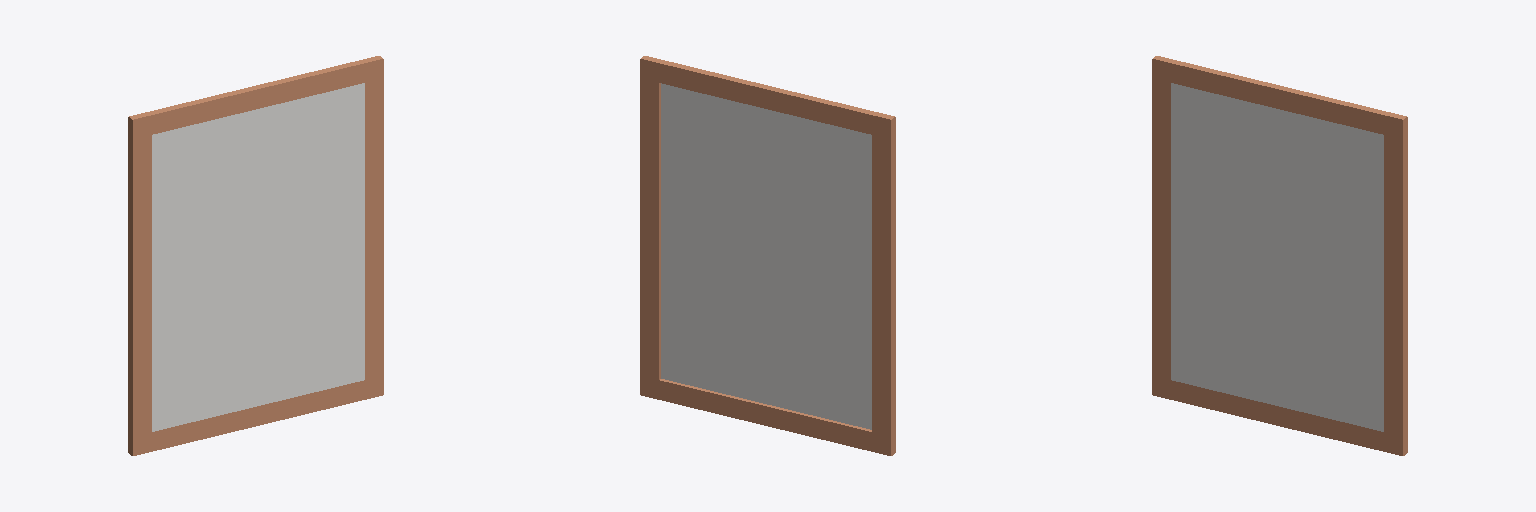
File: Painting_04.obj
The picture shows the model from 3 angles: view 1: azimuth 30°, elevation 25°; view 2: azimuth 150°, elevation 25°; view 3: azimuth 330°, elevation 25°; orthographic projection.
Visible parts, largest first — view 1: object_1, object_2; view 2: object_1, object_2; view 3: object_1, object_2.
Boxes of the visible parts, x1,y1,x2,y2 form: object_1: [152, 83, 364, 431]; object_2: [128, 56, 383, 455]; object_1: [661, 83, 871, 429]; object_2: [640, 56, 895, 455]; object_1: [1171, 83, 1383, 431]; object_2: [1152, 56, 1407, 455].
Size of the model in its own units: 66.58 by 85.44 by 2.